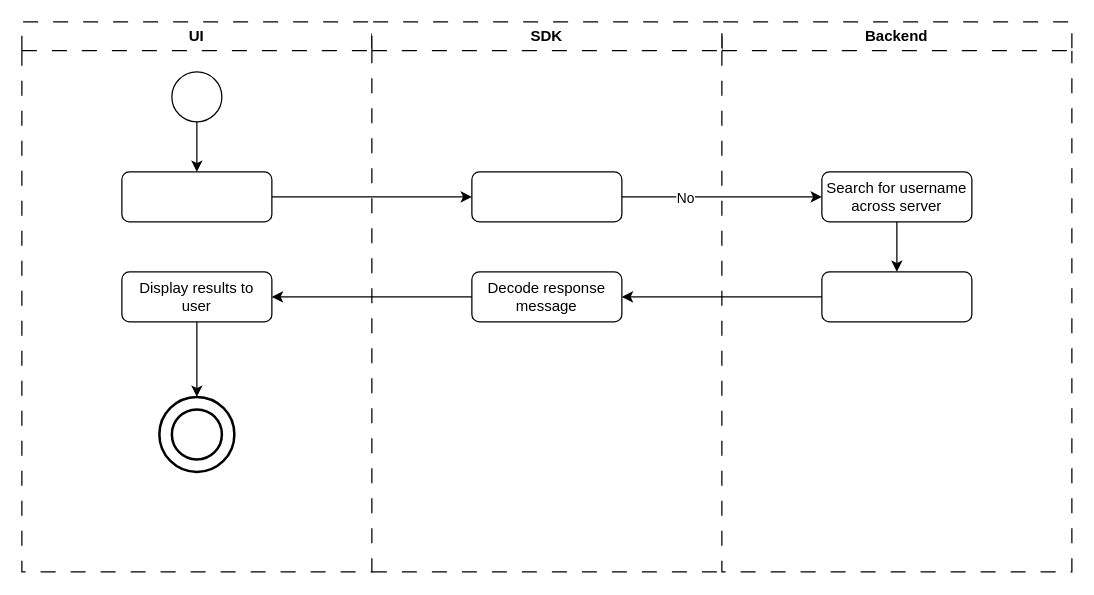
The diagram is 1094 pixels wide and 595 high, and some of its shapes have lost their labels. Each missing label, with the centre of its shape:
"Create request" belongs at pixel 546 196.
"Generate response" belongs at pixel 896 296.
"Input username in server search bar" belongs at pixel 196 196.
